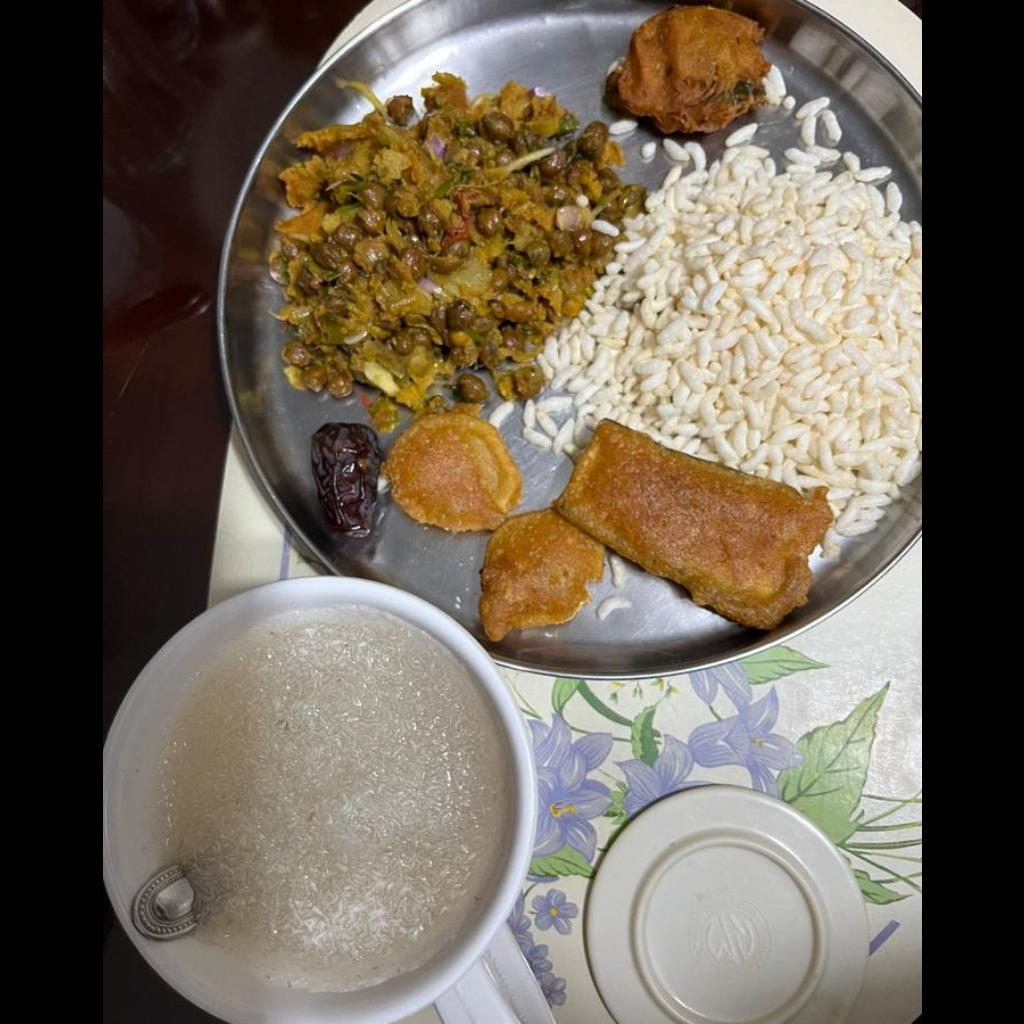beguni: (553, 421, 831, 628)
chola: (268, 73, 644, 430)
chop-alu: (383, 405, 603, 642)
dates: (311, 422, 381, 536)
juice: (161, 616, 504, 984)
piyaju: (605, 7, 769, 134)
puffed-rice: (523, 99, 920, 535)
